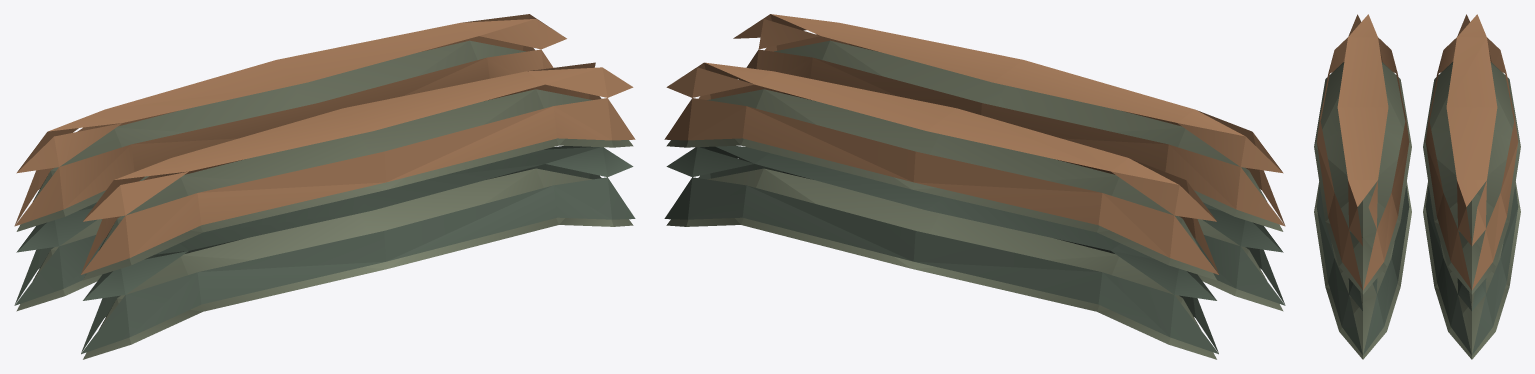
Rendered from rack.lod.glb.
3 renders of one model, left to right at view 1: azimuth 30°, elevation 25°; view 2: azimuth 150°, elevation 25°; view 3: azimuth 270°, elevation 25°, orthographic. The views are drawn at different scales.
Visible parts, largest first — view 1: rack.001; view 2: rack.001; view 3: rack.001.
Part boxes in pixels (box(x1,y1,x2,y2)): rack.001: box(14, 14, 635, 359); rack.001: box(664, 14, 1285, 359); rack.001: box(1314, 14, 1520, 359).
Size of the model in its own units: 5.8 by 1.73 by 2.28.
